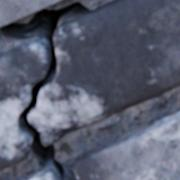brick: (74, 111, 179, 179), (0, 0, 62, 26), (17, 164, 61, 179)
broken_brick: (29, 0, 179, 145), (0, 39, 48, 169)
crack: (0, 1, 89, 177)
